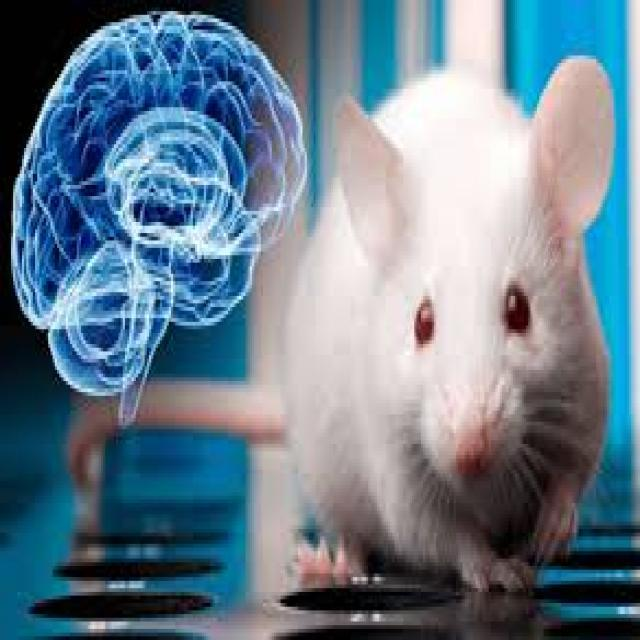Rat: (303, 56, 640, 639)
